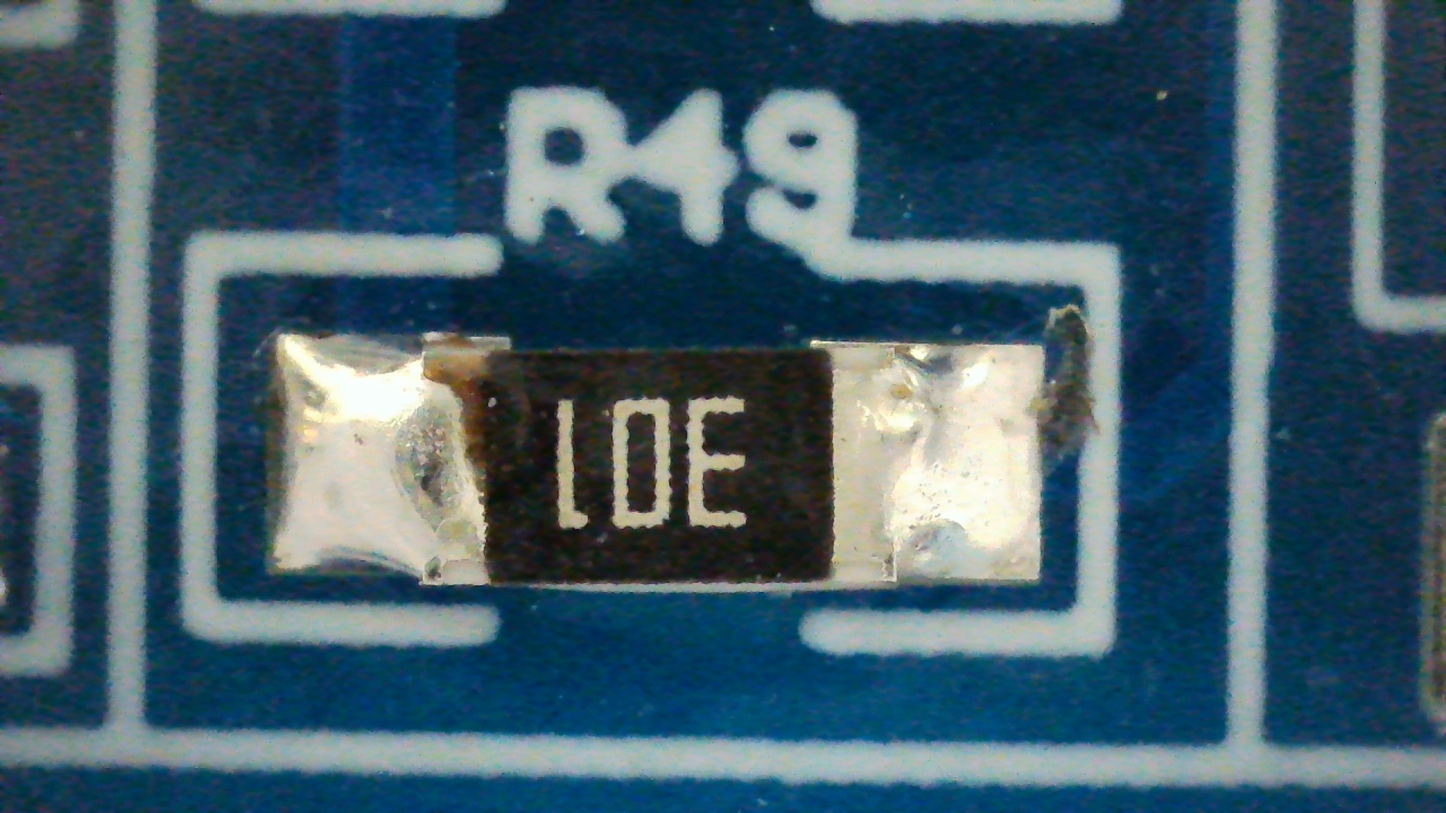OK: (270, 333, 1043, 585)
